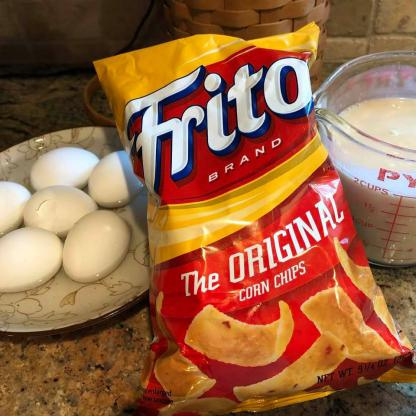potatochip: (88, 17, 416, 416)
